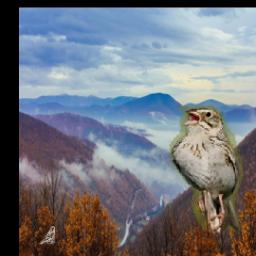Sparrow: (169, 107, 244, 236), (40, 227, 56, 245)
